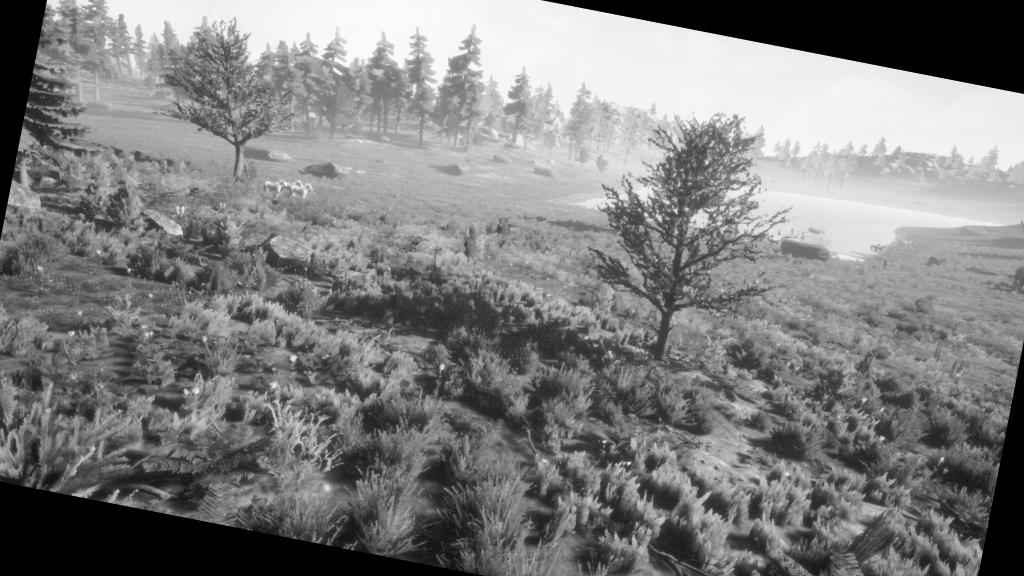zebra: (283, 176, 318, 204), (256, 172, 289, 201)
